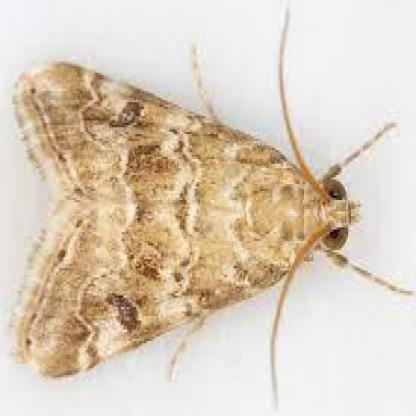Hellula undalis: (5, 1, 414, 392)
